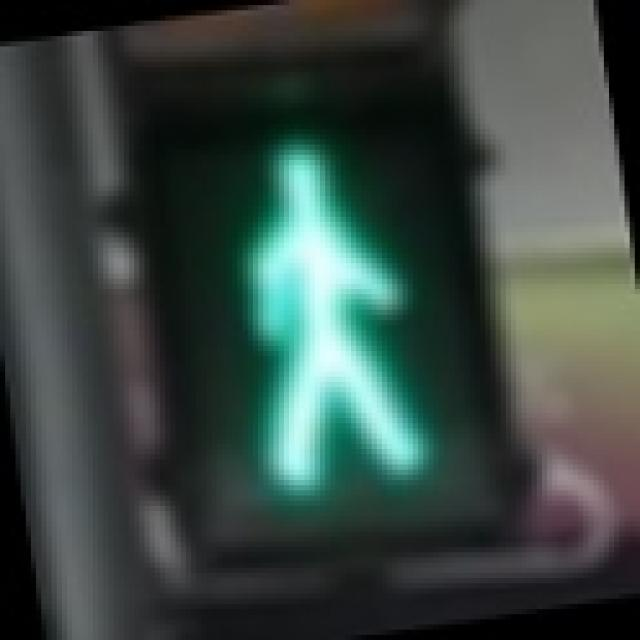green_light: (129, 78, 490, 547)
